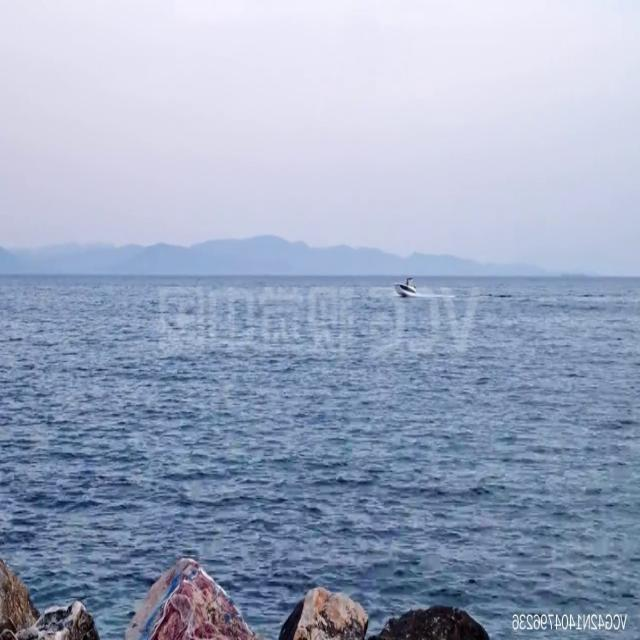houseboat: (392, 272, 417, 298)
